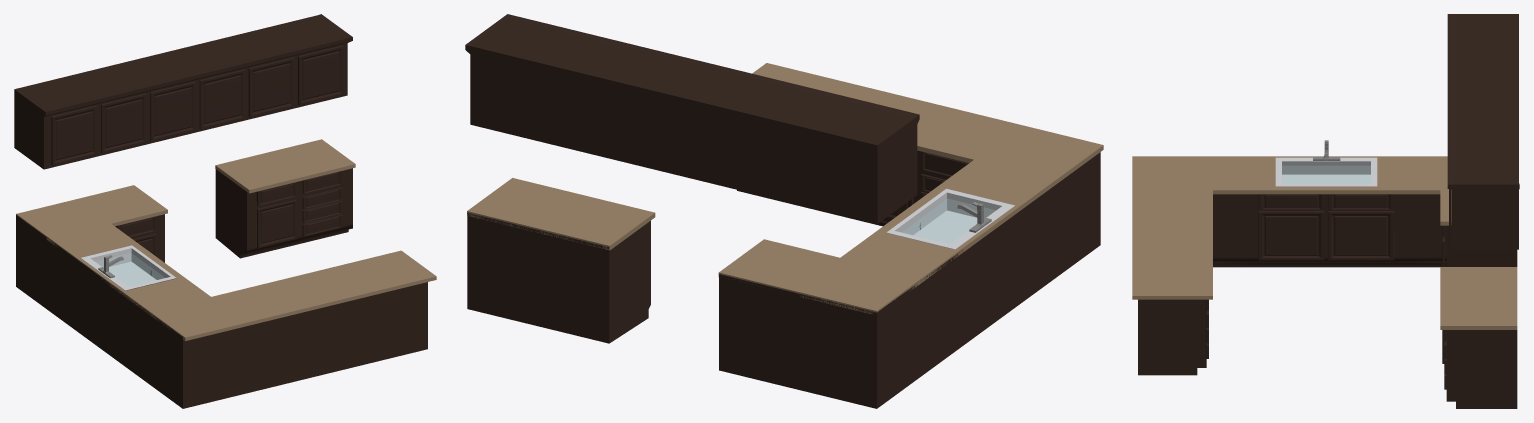
File: kitchen_counter.fbx
3 renders of one model, left to right at view 1: azimuth 30°, elevation 25°; view 2: azimuth 150°, elevation 25°; view 3: azimuth 270°, elevation 25°, orthographic. The views are drawn at different scales.
Visible parts, largest first — view 1: counter, countertop, uppercabinets, upcabdoor4, upcabdoor5, upcabdoor3, upcabdoor1, upcabdoor2, upcabdoor6, cabinet_door6, water, cabinet_drawer14 (+5 smaller); view 2: counter, uppercabinets, countertop, water, cabinet_drawer7; view 3: counter, countertop, uppercabinets, cabinet_door3, cabinet_door4, water, cabinet_drawer11, cabinet_drawer12.
Boxes of the visible parts, x1,y1,x2,y2 form: counter: (16, 168, 427, 408); countertop: (16, 139, 436, 340); uppercabinets: (14, 14, 352, 169); upcabdoor4: (199, 69, 245, 129); upcabdoor5: (248, 57, 294, 117); upcabdoor3: (150, 81, 195, 141); upcabdoor1: (51, 105, 96, 165); upcabdoor2: (101, 93, 146, 153); upcabdoor6: (298, 45, 343, 105); cabinet_door6: (257, 199, 296, 248); water: (96, 253, 164, 286); cabinet_drawer14: (256, 182, 296, 205); counter: (467, 150, 1100, 408); uppercabinets: (465, 14, 919, 223); countertop: (467, 63, 1103, 314); water: (902, 199, 995, 243); cabinet_drawer7: (920, 151, 968, 176); counter: (1138, 157, 1517, 408); countertop: (1132, 156, 1517, 329); uppercabinets: (1447, 14, 1519, 249); cabinet_door3: (1258, 211, 1324, 260); cabinet_door4: (1328, 211, 1393, 260); water: (1282, 166, 1370, 183); cabinet_drawer11: (1258, 194, 1324, 210); cabinet_drawer12: (1328, 194, 1393, 210).
Bounding box in the file's own units: 4.3 × 2.64 × 4.13.
